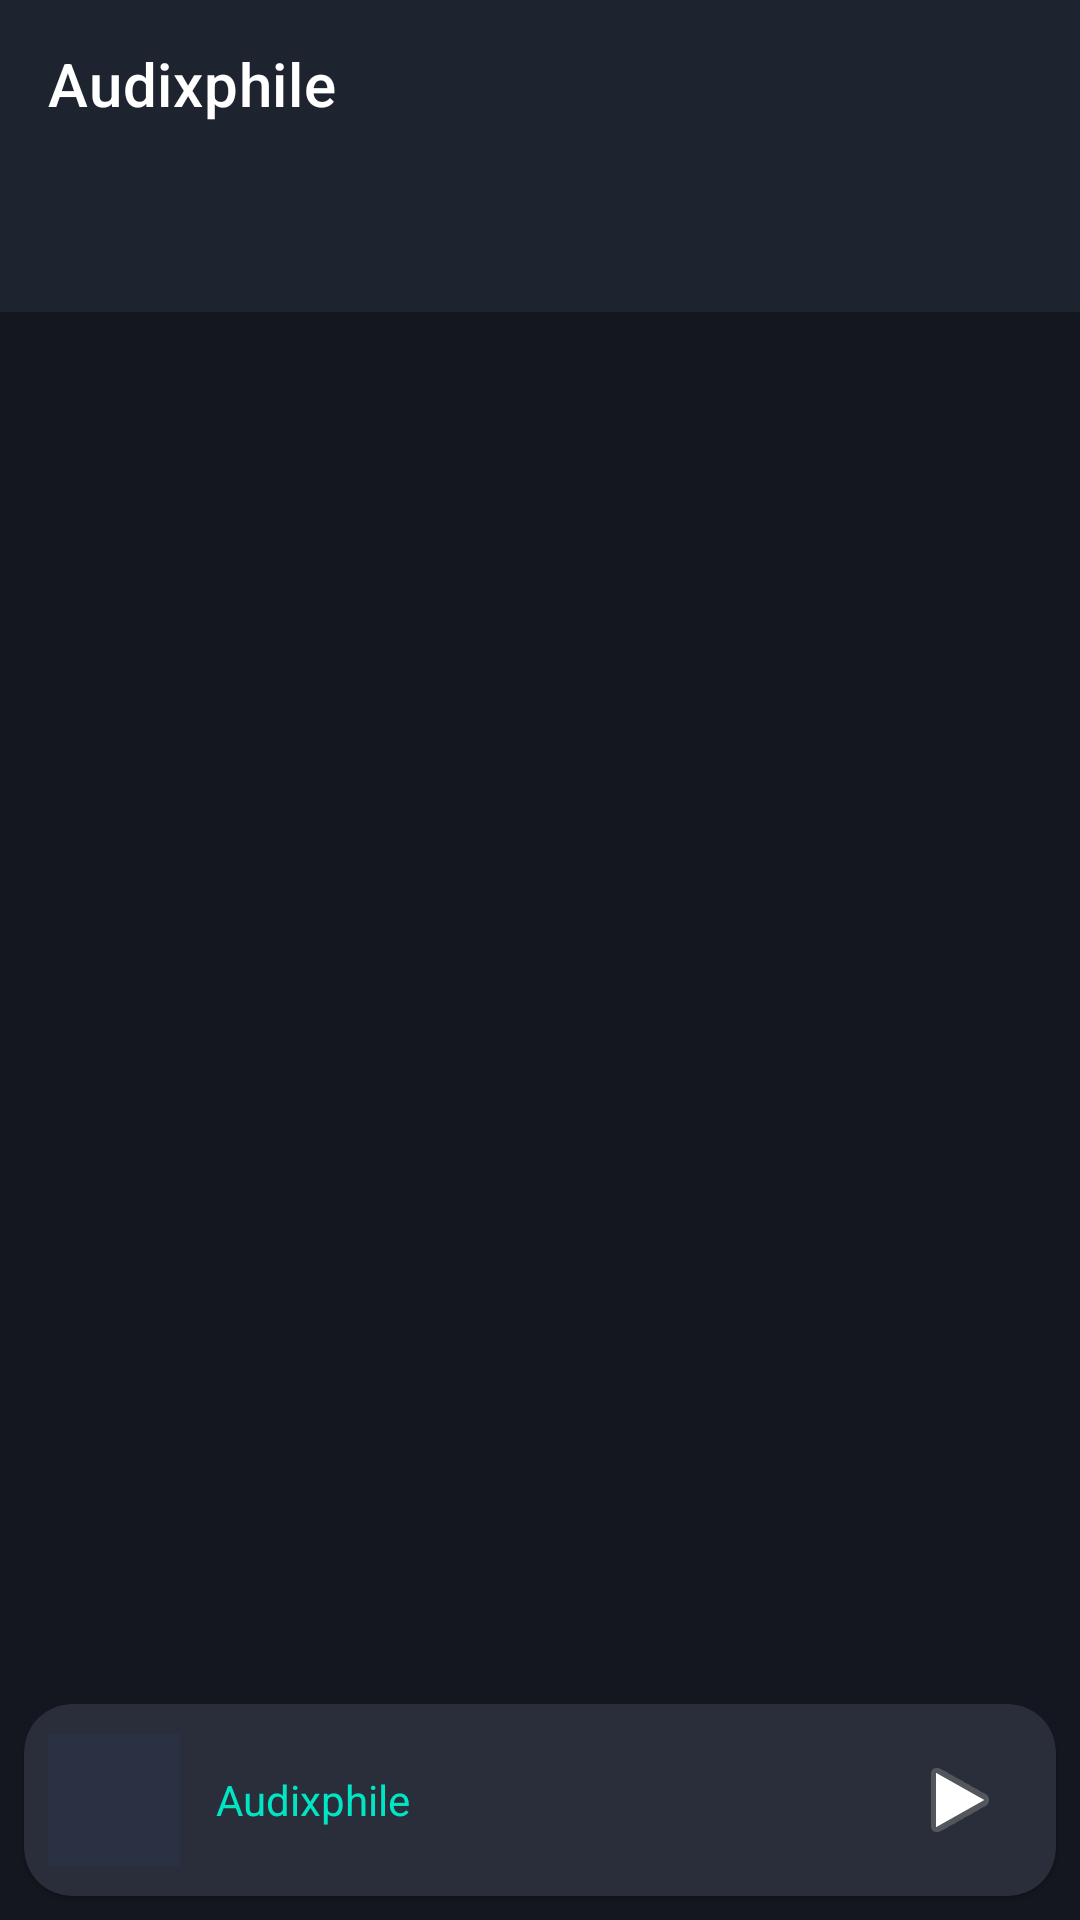

Screen size 1080*1920. Icon name, then its box in pixels as [x1,y1,x2,y2]:
play: [931,1768,989,1832]
